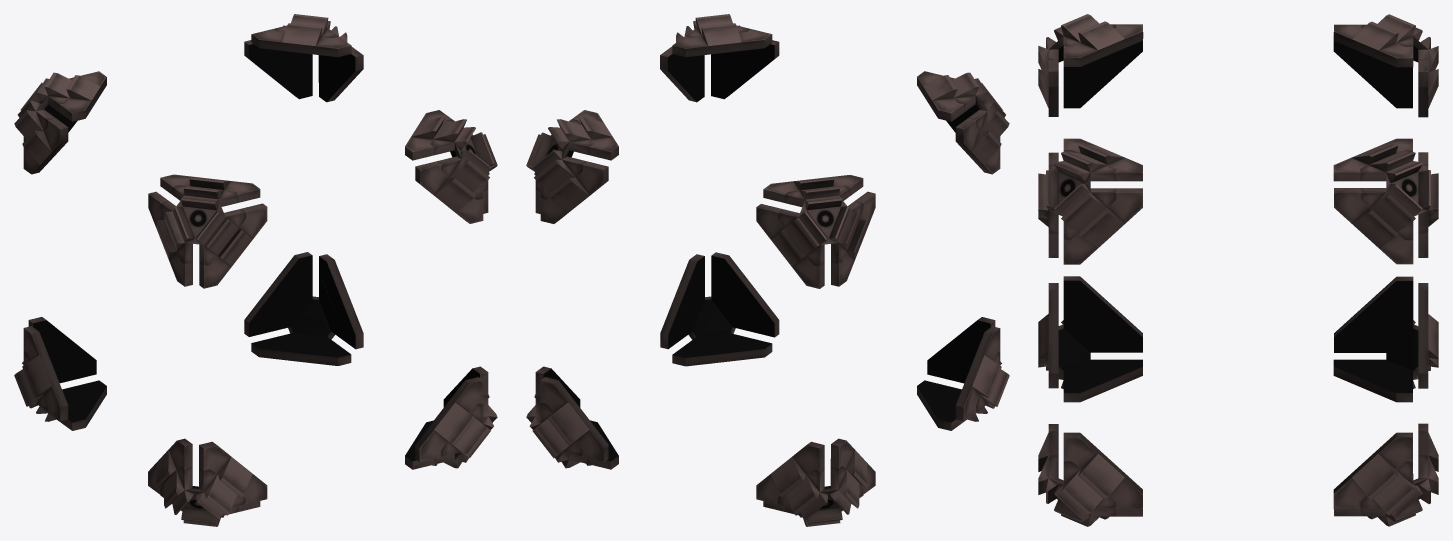
The model's file is Contraption_Cube_Friction3.obj.
The picture shows the model from 3 angles, left to right: view 1: azimuth 30°, elevation 25°; view 2: azimuth 150°, elevation 25°; view 3: azimuth 270°, elevation 25°; orthographic projection. The views are drawn at different scales.
Parts seen in each view (by area): view 1: g0; view 2: g0; view 3: g0.
Boxes of the visible parts, left/top/right/bottom form: g0: left=14, top=14, right=497, bottom=526; g0: left=526, top=14, right=1009, bottom=526; g0: left=1038, top=14, right=1438, bottom=526.
Size of the model in its own units: 39.6 by 39.6 by 39.57.
Materials: 1 (1 with a texture image).
